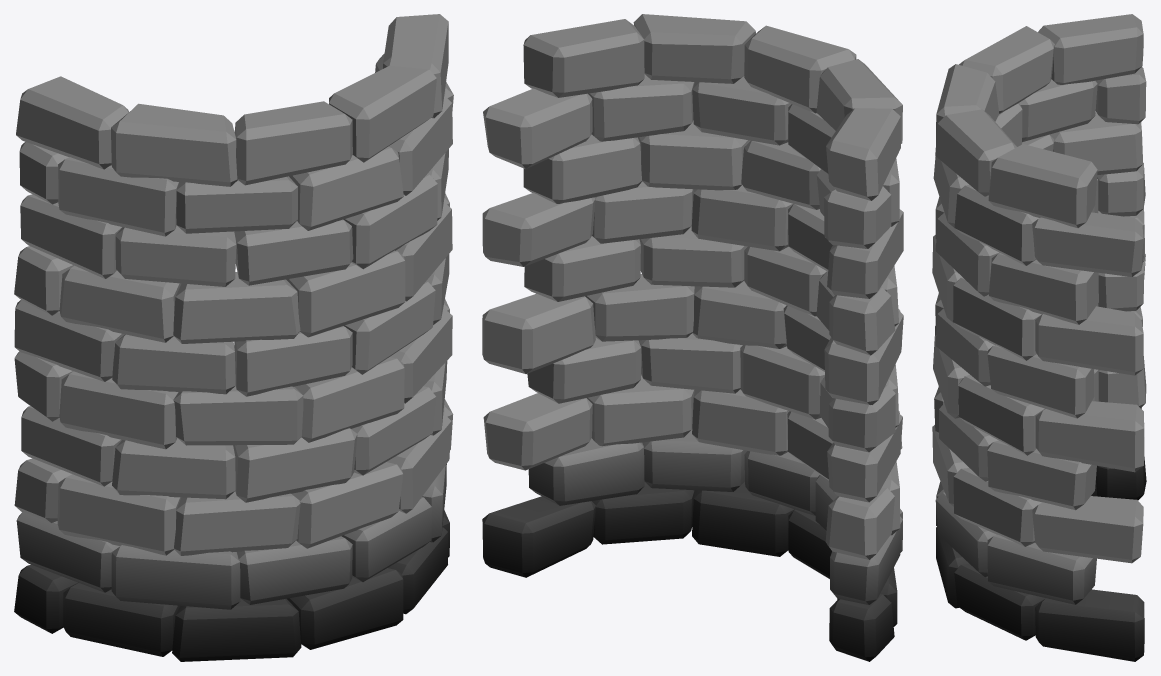
The model's file is BrickWall2x2_01_T180_End_R.fbx.
3 renders of one model, left to right at view 1: azimuth 30°, elevation 25°; view 2: azimuth 150°, elevation 25°; view 3: azimuth 270°, elevation 25°, orthographic. The views are drawn at different scales.
Parts seen in each view (by area): view 1: BrickWall2x2_01_T180_End_R; view 2: BrickWall2x2_01_T180_End_R; view 3: BrickWall2x2_01_T180_End_R.
Part boxes in pixels (<box>): BrickWall2x2_01_T180_End_R: <box>14,14,453,661</box>; BrickWall2x2_01_T180_End_R: <box>482,14,903,661</box>; BrickWall2x2_01_T180_End_R: <box>932,14,1146,661</box>.
Bounding box in the file's own units: 163 × 202 × 81.47.
